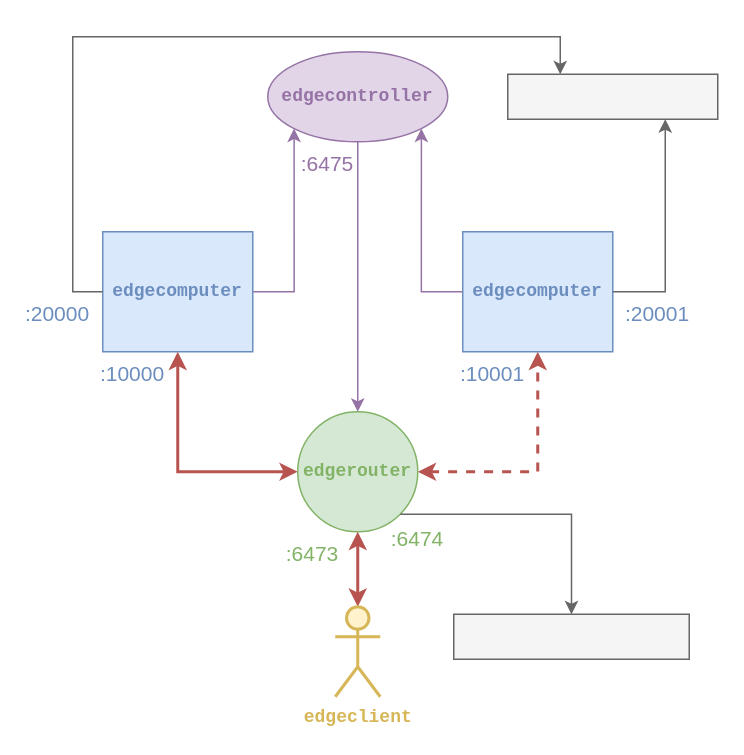
The diagram is 744 pixels wide and 755 high, and some of its shapes have lost their labels. The centre of each missing label's shape, as x and y in pixels:
"edgecomputerclient" goes at [612,96].
"forwardingtableclient" goes at [570,636].
